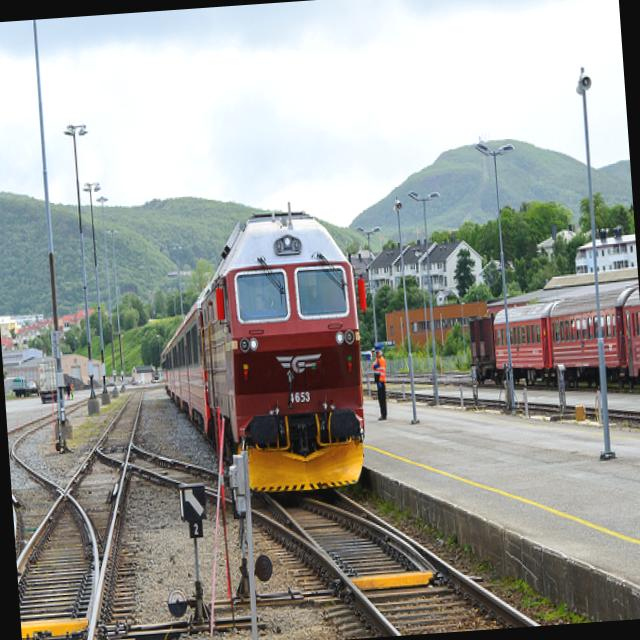Vehicle: (37, 356, 58, 402), (12, 376, 28, 398)
